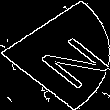N_NW: (11, 23, 99, 87)
